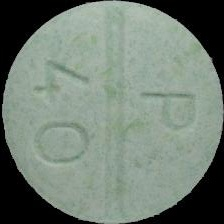23155-112: (0, 0, 224, 224)
